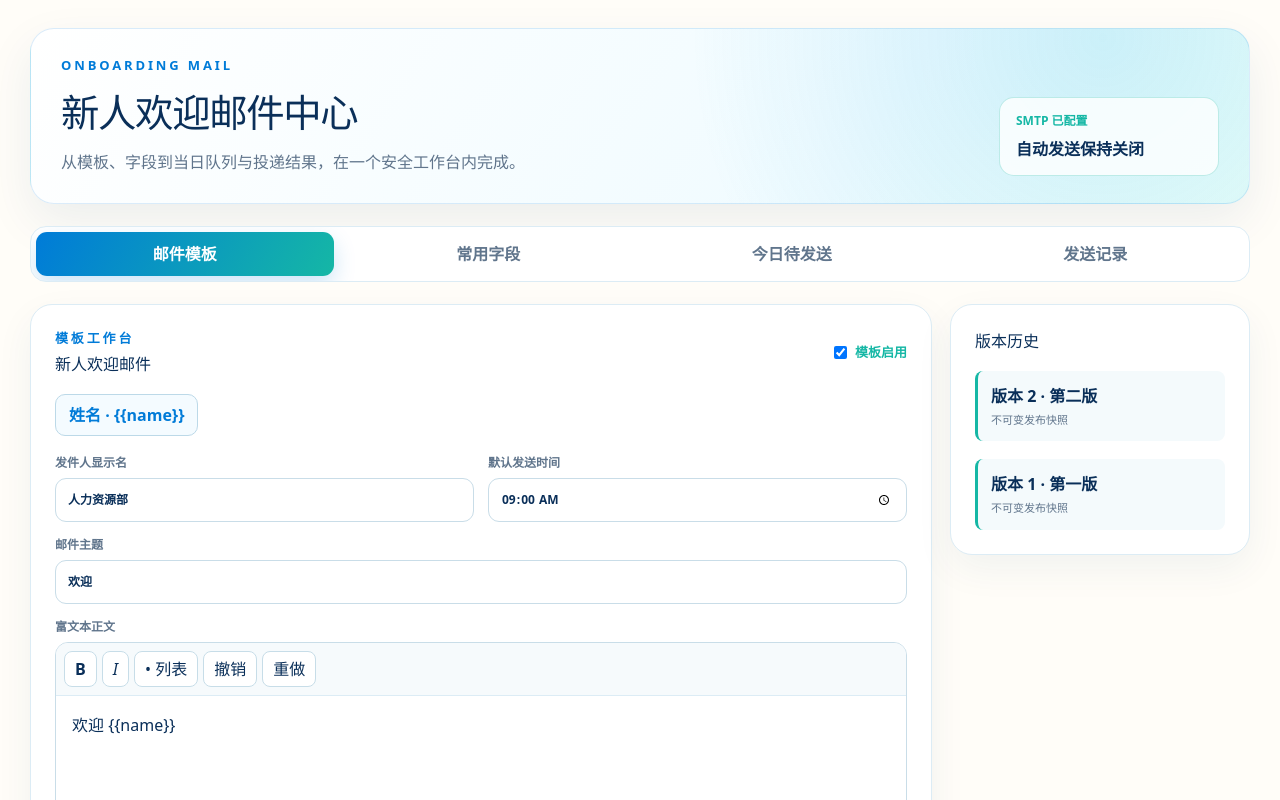
Test: onboarding mail center interactions › shows a bounded redacted failure diagnostic without exposing provider identifiers
Expected: the heading "新人欢迎邮件中心" is shown, [61,86,357,138]
Expected: the field showing "人力资源部" is shown, [55,478,474,522]
Step 1. Click the tab "发送记录" → (1095, 254), box [946,232,1244,276]
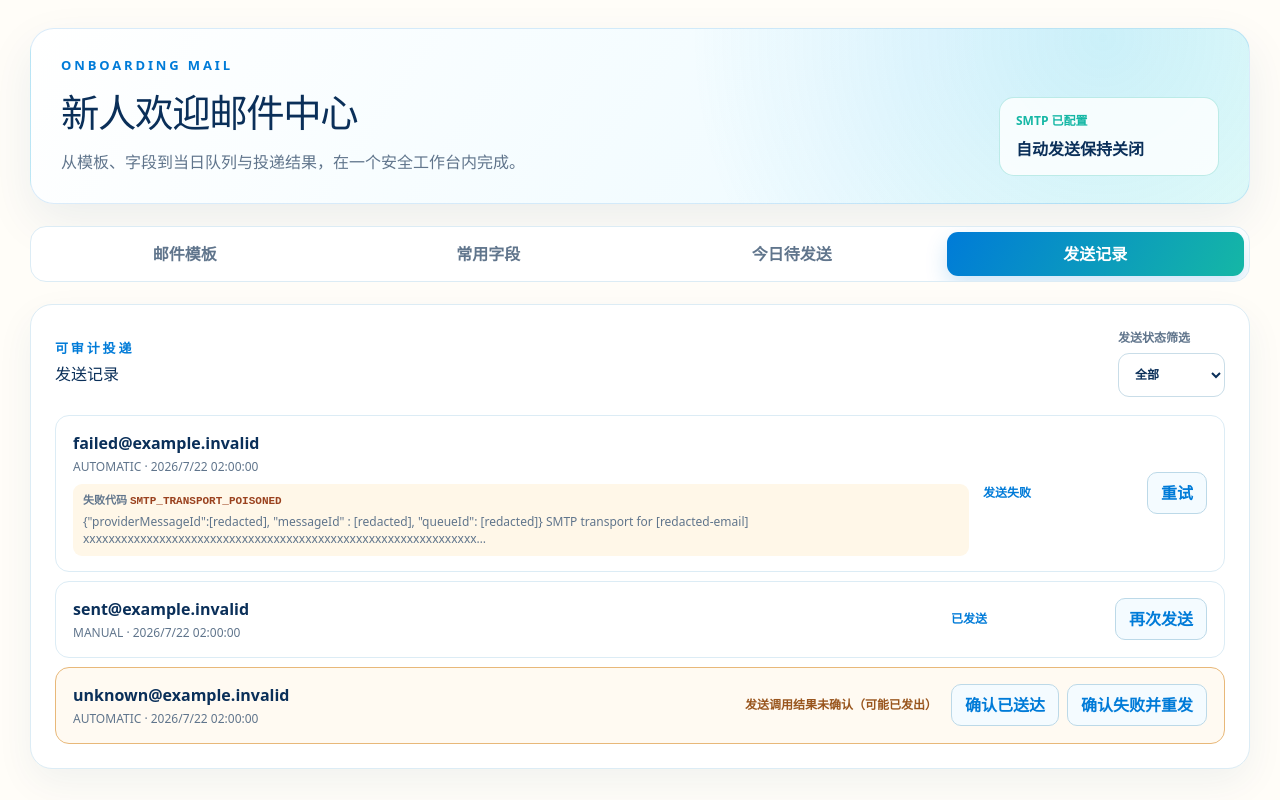
Now the text "SMTP_TRANSPORT_POISONED" is shown, box [130,494,282,506]
Now the text with class "mail-failure-summary" shows "[redacted-email]", box [83,513,748,547]
Now the element with test id "delivery-failed-1" shows "failed@example.invalid", box [73,432,259,454]
